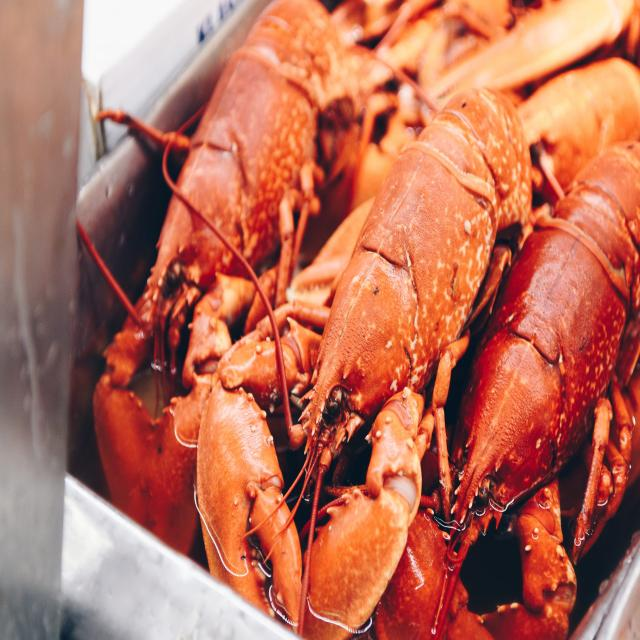Lobster: (196, 88, 531, 639), (81, 0, 371, 553), (375, 141, 640, 639)
